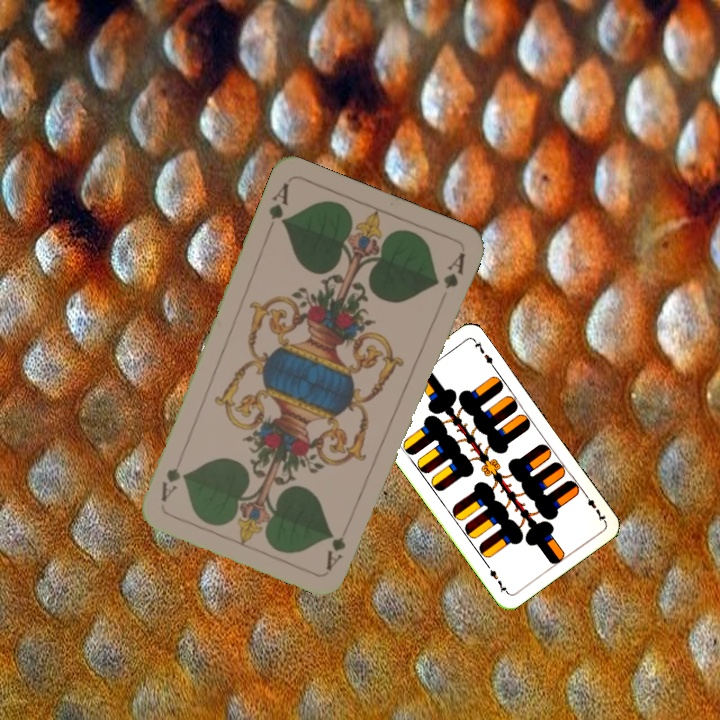E7: (580, 489, 609, 524)
GA: (264, 178, 292, 229), (322, 532, 349, 572)
